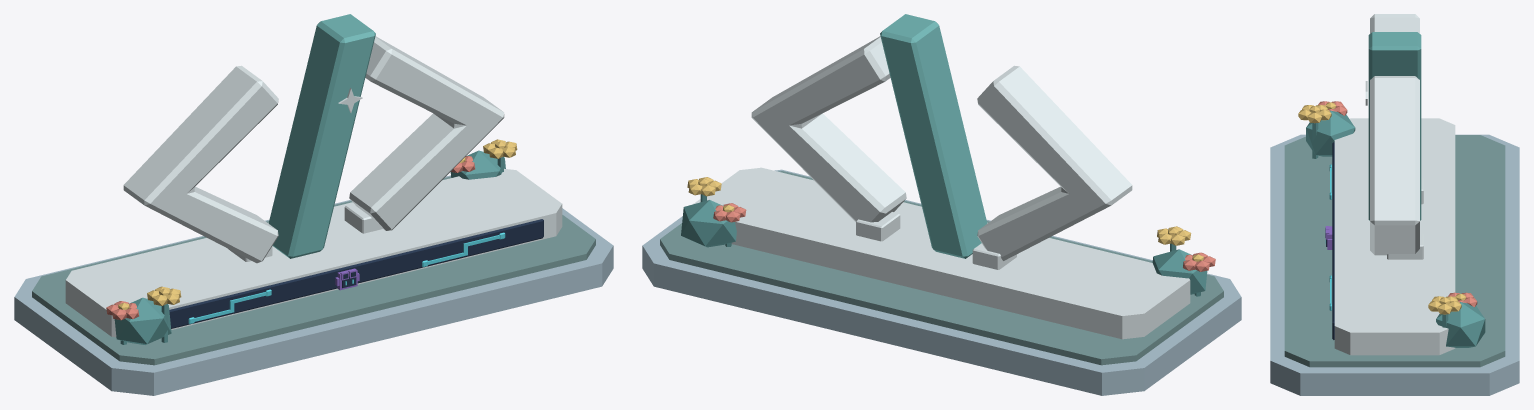
The model's file is campus_code_sculpture_v01.glb.
3 views of the same model, side by side, from view 1: azimuth 30°, elevation 25°; view 2: azimuth 150°, elevation 25°; view 3: azimuth 270°, elevation 25° (orthographic). The views are drawn at different scales.
Parts seen in each view (by area): view 1: campus_code_sculpture; view 2: campus_code_sculpture; view 3: campus_code_sculpture.
Boxes of the visible parts, x1,y1,x2,y2 form: campus_code_sculpture: (14,14,613,395); campus_code_sculpture: (642,14,1241,395); campus_code_sculpture: (1270,14,1519,395).
Size of the model in its own units: 4.3 by 2.13 by 1.9.
1 material, 1 textured.
